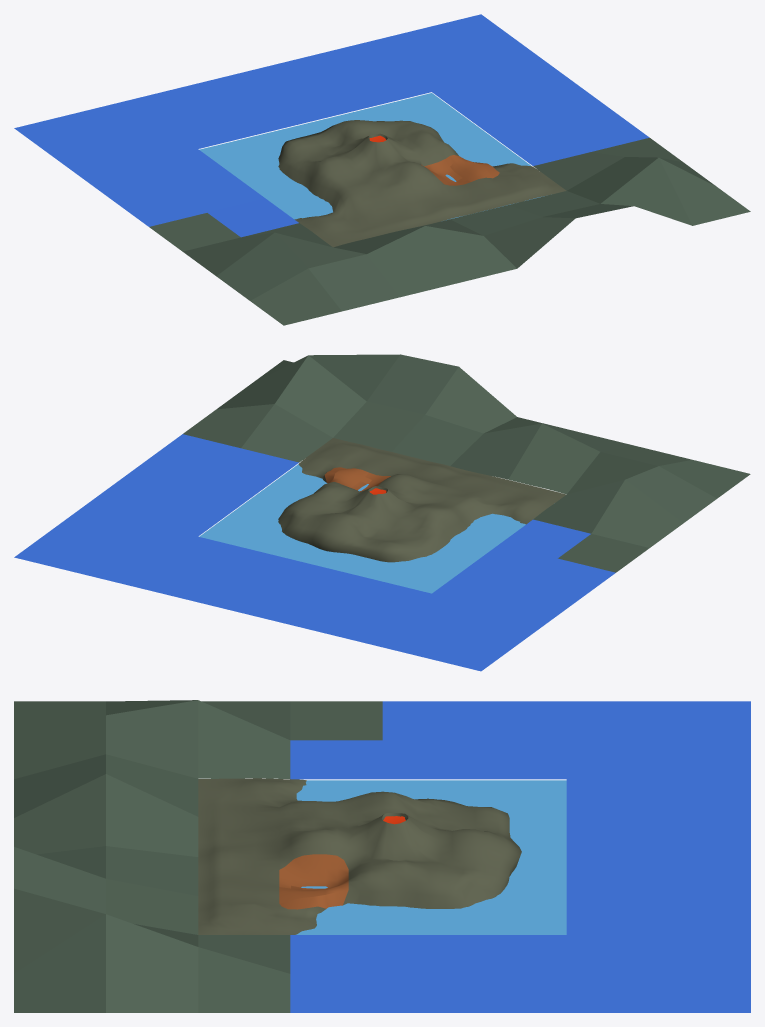
Rendered from terrain_island.glb.
3 renders of one model, top to bottom at view 1: azimuth 30°, elevation 25°; view 2: azimuth 150°, elevation 25°; view 3: azimuth 270°, elevation 25°, orthographic. The views are drawn at different scales.
Visible parts, largest first — view 1: blocked_area, volcanic_land, water, fertile_land; view 2: blocked_area, volcanic_land, water, fertile_land; view 3: blocked_area, volcanic_land, water, fertile_land.
Boxes of the visible parts, x1,y1,x2,y2 form: blocked_area: (14,14,750,325); volcanic_land: (278,120,566,247); water: (199,93,544,220); fertile_land: (421,155,499,185); blocked_area: (14,354,750,671); volcanic_land: (278,438,565,562); water: (199,464,525,593); fertile_land: (324,467,390,491); blocked_area: (14,700,750,1012); volcanic_land: (198,778,521,934); water: (296,780,566,934); fertile_land: (279,854,348,909).
Size of the model in its own units: 400 by 52.72 by 400.
